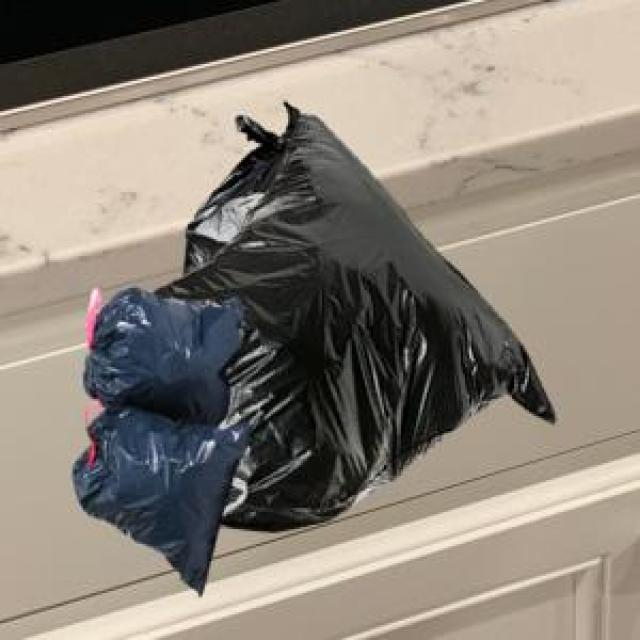Trashbag: (71, 410, 247, 601), (78, 287, 248, 425)
